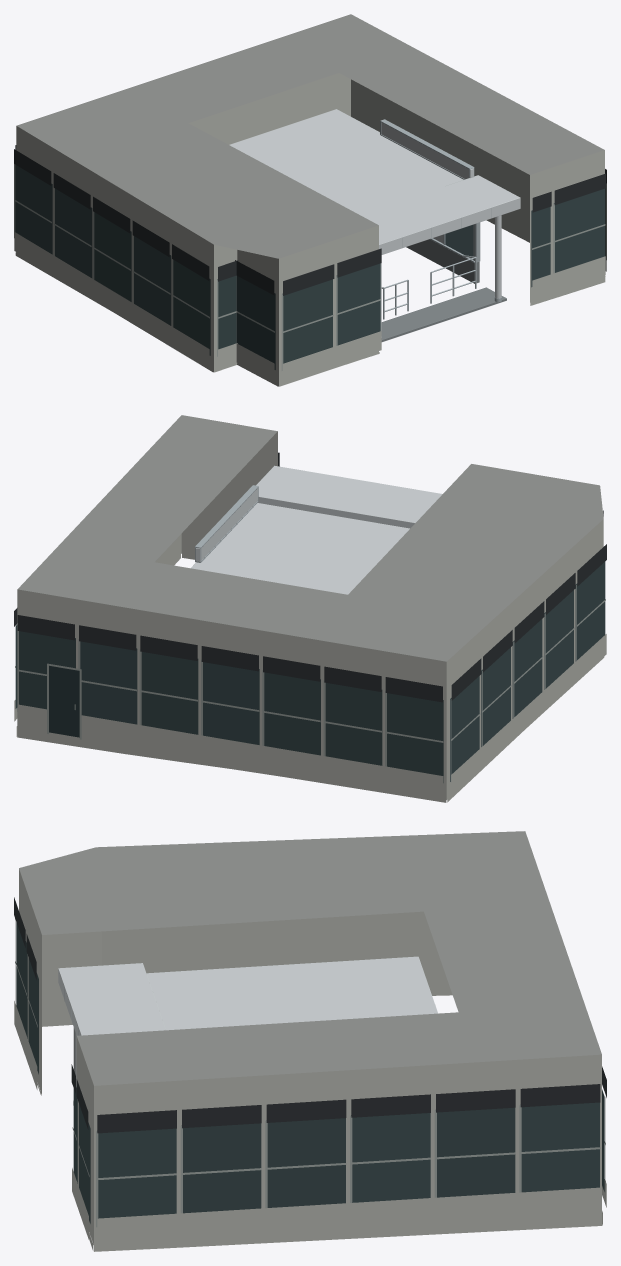
3 views of the same model, one above another, from view 1: azimuth 30°, elevation 25°; view 2: azimuth 150°, elevation 25°; view 3: azimuth 270°, elevation 25° (orthographic). The views are drawn at different scales.
Visible parts, largest first — view 1: plaza-kiosk_roof, plaza-kiosk_wall, A8_01_Pale_aluminium_cladding, plaza-kiosk_glass2, plaza-kiosk_glass1, plaza-kiosk_spandrel, plaza-kiosk_sign_housing, plaza-kiosk_glass0, A8_02_Neutral_base_and_omitted_content, plaza-kiosk_frame, A8_03_Brushed_silver_structure, A8_04_Glazed_bay_opaque_proxy; view 2: plaza-kiosk_roof, plaza-kiosk_wall, plaza-kiosk_glass0, A8_01_Pale_aluminium_cladding, plaza-kiosk_glass1, plaza-kiosk_spandrel, plaza-kiosk_sign_housing, plaza-kiosk_glass2, plaza-kiosk_frame, plaza-kiosk_shop_glass, A8_03_Brushed_silver_structure; view 3: plaza-kiosk_roof, plaza-kiosk_wall, A8_01_Pale_aluminium_cladding, plaza-kiosk_glass0, plaza-kiosk_glass2, plaza-kiosk_spandrel, plaza-kiosk_sign_housing, plaza-kiosk_glass1, plaza-kiosk_frame.
Boxes of the visible parts, x1,y1,x2,y2 form: plaza-kiosk_roof: [17, 14, 604, 258]; plaza-kiosk_wall: [15, 73, 605, 386]; A8_01_Pale_aluminium_cladding: [229, 109, 520, 330]; plaza-kiosk_glass2: [15, 164, 604, 345]; plaza-kiosk_glass1: [94, 188, 605, 363]; plaza-kiosk_spandrel: [14, 232, 606, 382]; plaza-kiosk_sign_housing: [14, 145, 606, 295]; plaza-kiosk_glass0: [217, 275, 275, 369]; A8_02_Neutral_base_and_omitted_content: [381, 239, 506, 341]; plaza-kiosk_frame: [14, 164, 606, 370]; A8_03_Brushed_silver_structure: [380, 119, 501, 340]; A8_04_Glazed_bay_opaque_proxy: [445, 225, 473, 259]; plaza-kiosk_roof: [18, 415, 603, 661]; plaza-kiosk_wall: [16, 431, 604, 802]; plaza-kiosk_glass0: [19, 631, 443, 782]; A8_01_Pale_aluminium_cladding: [191, 465, 442, 594]; plaza-kiosk_glass1: [80, 562, 605, 744]; plaza-kiosk_spandrel: [14, 634, 606, 796]; plaza-kiosk_sign_housing: [14, 452, 606, 702]; plaza-kiosk_glass2: [15, 590, 573, 781]; plaza-kiosk_frame: [15, 585, 605, 782]; plaza-kiosk_shop_glass: [49, 665, 79, 737]; A8_03_Brushed_silver_structure: [195, 485, 258, 562]; plaza-kiosk_roof: [19, 831, 601, 1085]; plaza-kiosk_wall: [19, 869, 602, 1251]; A8_01_Pale_aluminium_cladding: [58, 956, 438, 1087]; plaza-kiosk_glass0: [181, 1089, 604, 1213]; plaza-kiosk_glass2: [28, 958, 599, 1223]; plaza-kiosk_spandrel: [14, 1001, 606, 1242]; plaza-kiosk_sign_housing: [14, 897, 606, 1133]; plaza-kiosk_glass1: [16, 922, 176, 1218]; plaza-kiosk_frame: [15, 918, 605, 1227].
Bounding box in the file's own units: 15.01 × 4.62 × 14.53.
